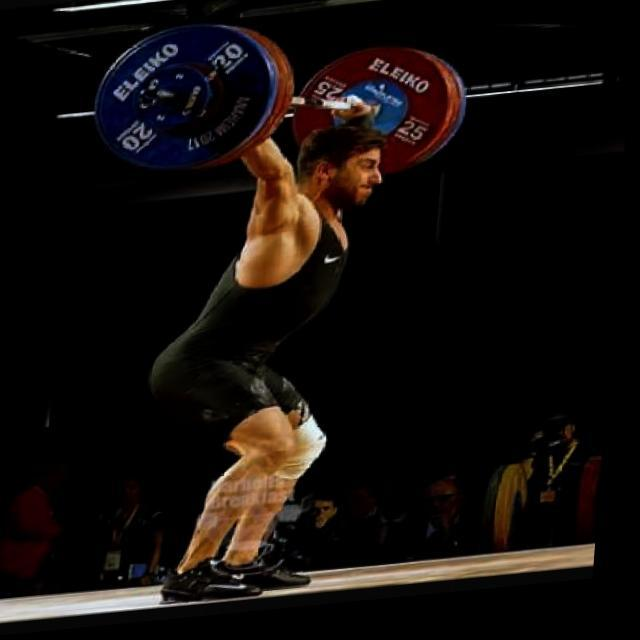barbell: (89, 18, 286, 188)
